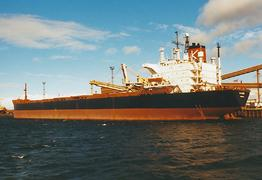Cargoship: (9, 31, 247, 123)
